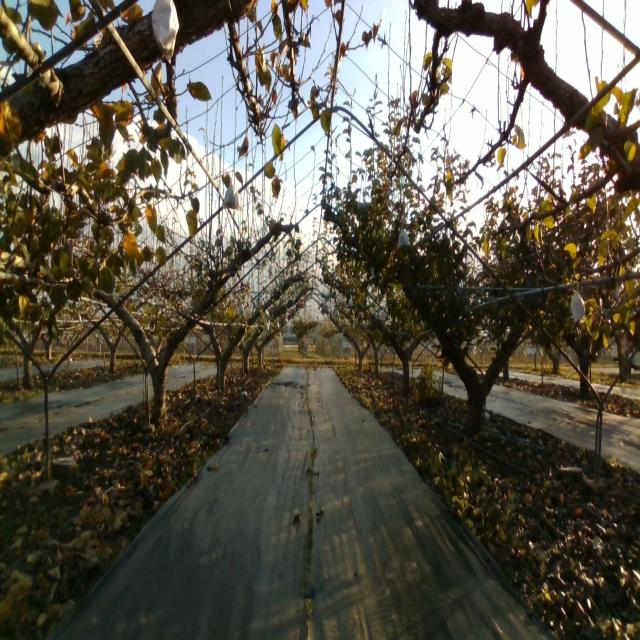pearbags: (152, 1, 179, 66), (222, 183, 241, 212), (569, 291, 586, 323), (396, 229, 410, 249)
